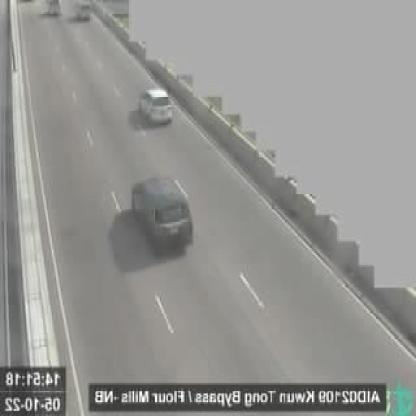Car: (131, 177, 194, 251), (138, 86, 173, 126)
